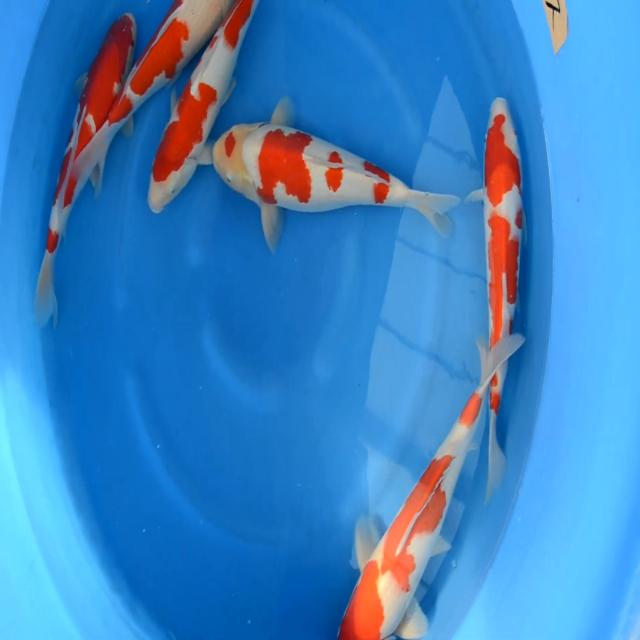Kohaku: (336, 331, 525, 638), (212, 94, 460, 253), (31, 14, 141, 337), (71, 0, 235, 200), (465, 96, 527, 506), (147, 0, 259, 214)
